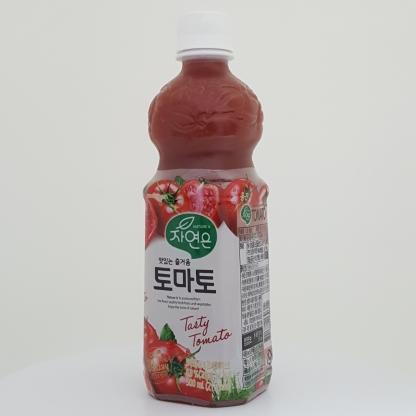--------500ML: (143, 11, 273, 409)
